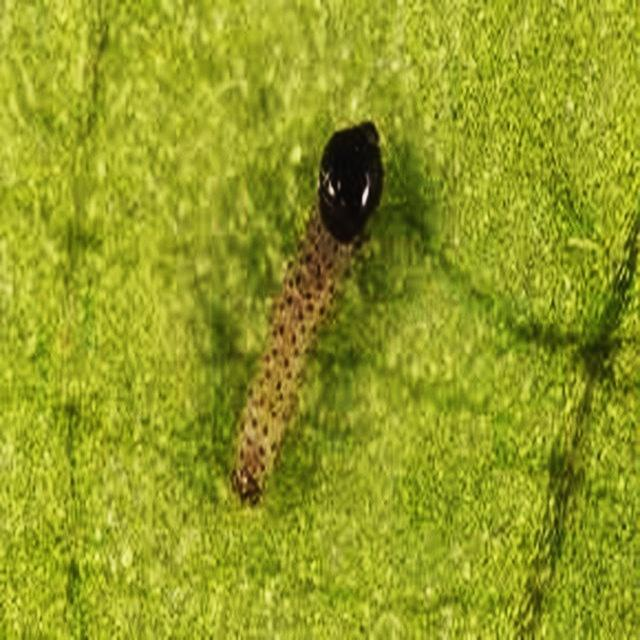Plaga: (225, 121, 390, 510)
